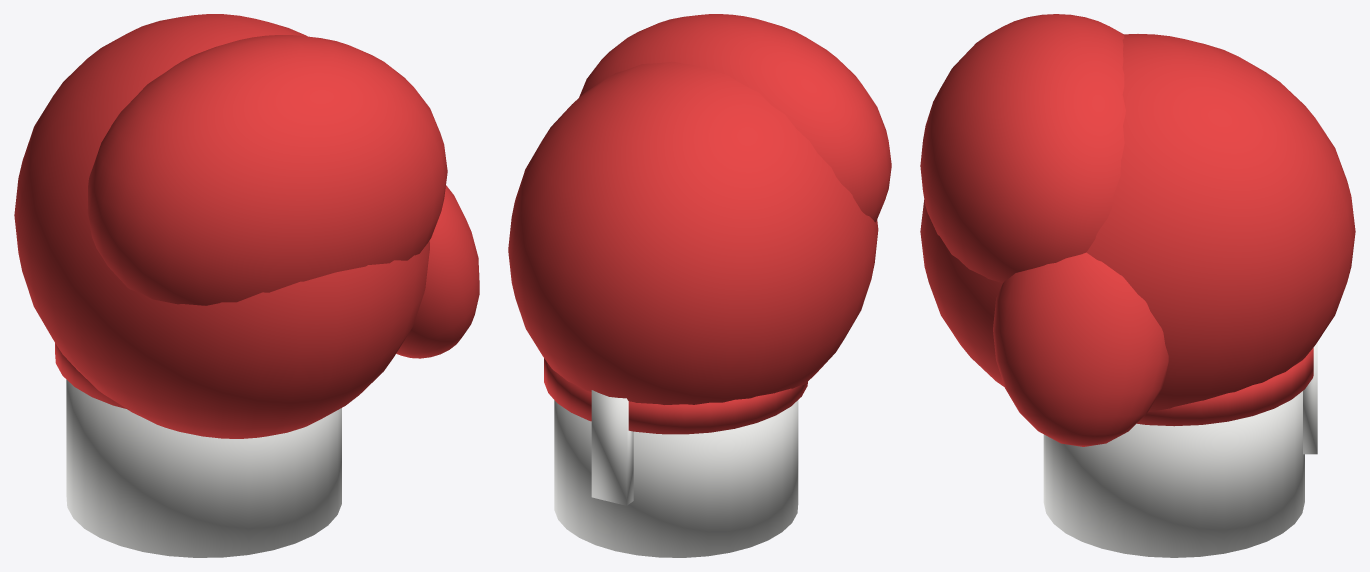
Rendered from ITEM_BoxingGlove.fbx.
3 renders of one model, left to right at view 1: azimuth 30°, elevation 25°; view 2: azimuth 150°, elevation 25°; view 3: azimuth 270°, elevation 25°, orthographic. The views are drawn at different scales.
Parts seen in each view (by area): view 1: ITEM_BoxingGlove; view 2: ITEM_BoxingGlove; view 3: ITEM_BoxingGlove.
Boxes of the visible parts, x1,y1,x2,y2 form: ITEM_BoxingGlove: (14, 14, 479, 557); ITEM_BoxingGlove: (508, 14, 891, 557); ITEM_BoxingGlove: (920, 14, 1355, 557).
Bounding box in the file's own units: 23.37 × 28.5 × 24.
